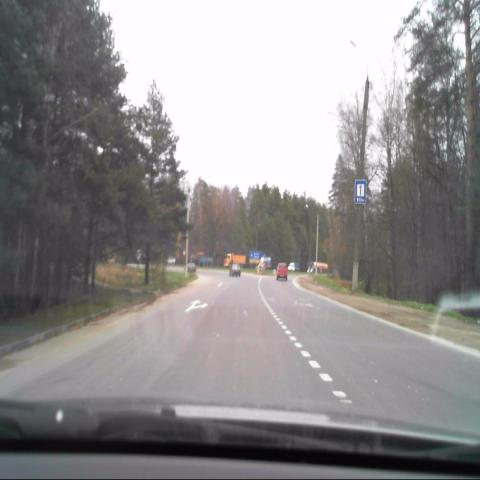7_4: (354, 178, 368, 205)
